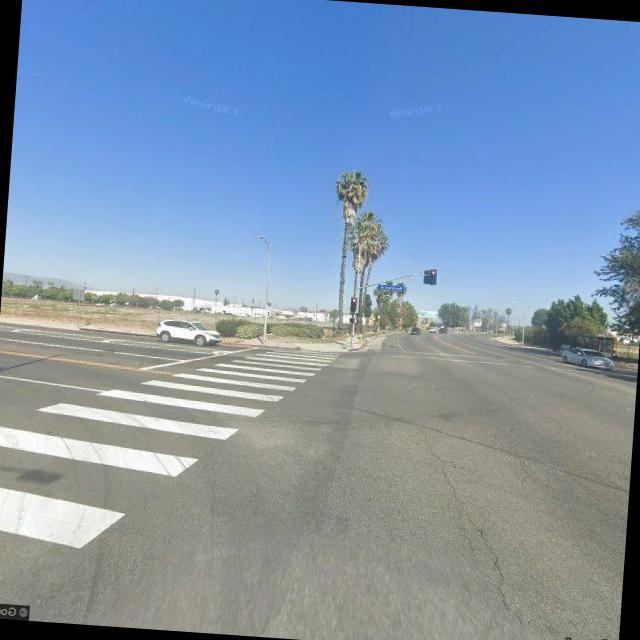pothole: (410, 428, 530, 624)
